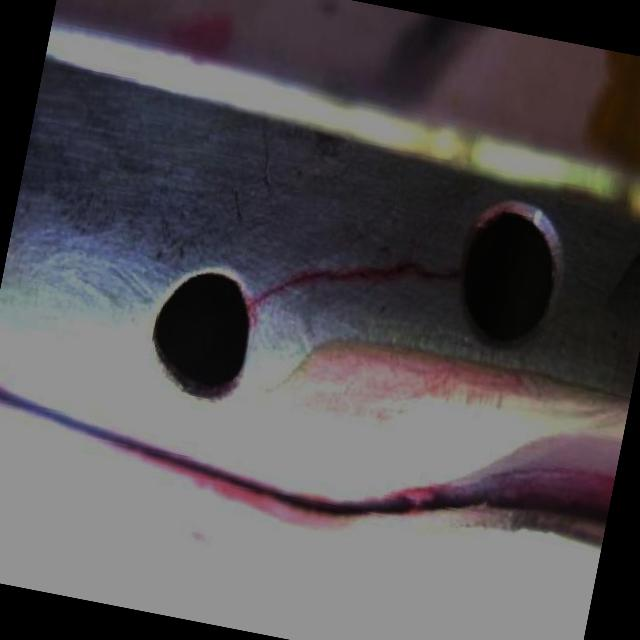crack: (341, 258, 414, 286), (284, 262, 342, 294), (242, 276, 284, 312), (414, 264, 462, 287)
